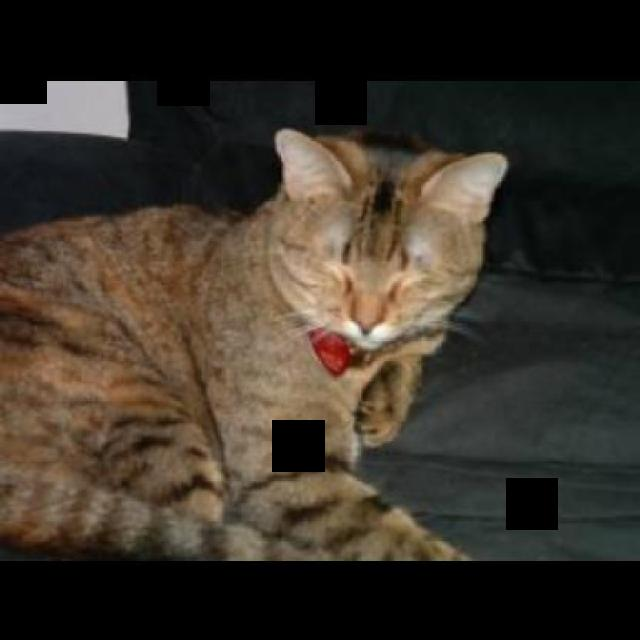unauthorized: (0, 125, 509, 560)
